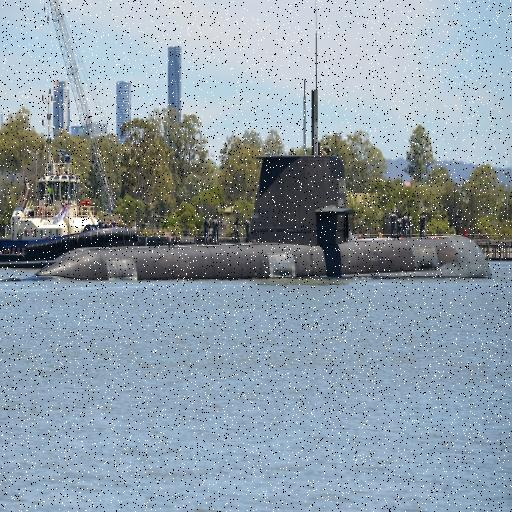submarine: (32, 153, 498, 279)
